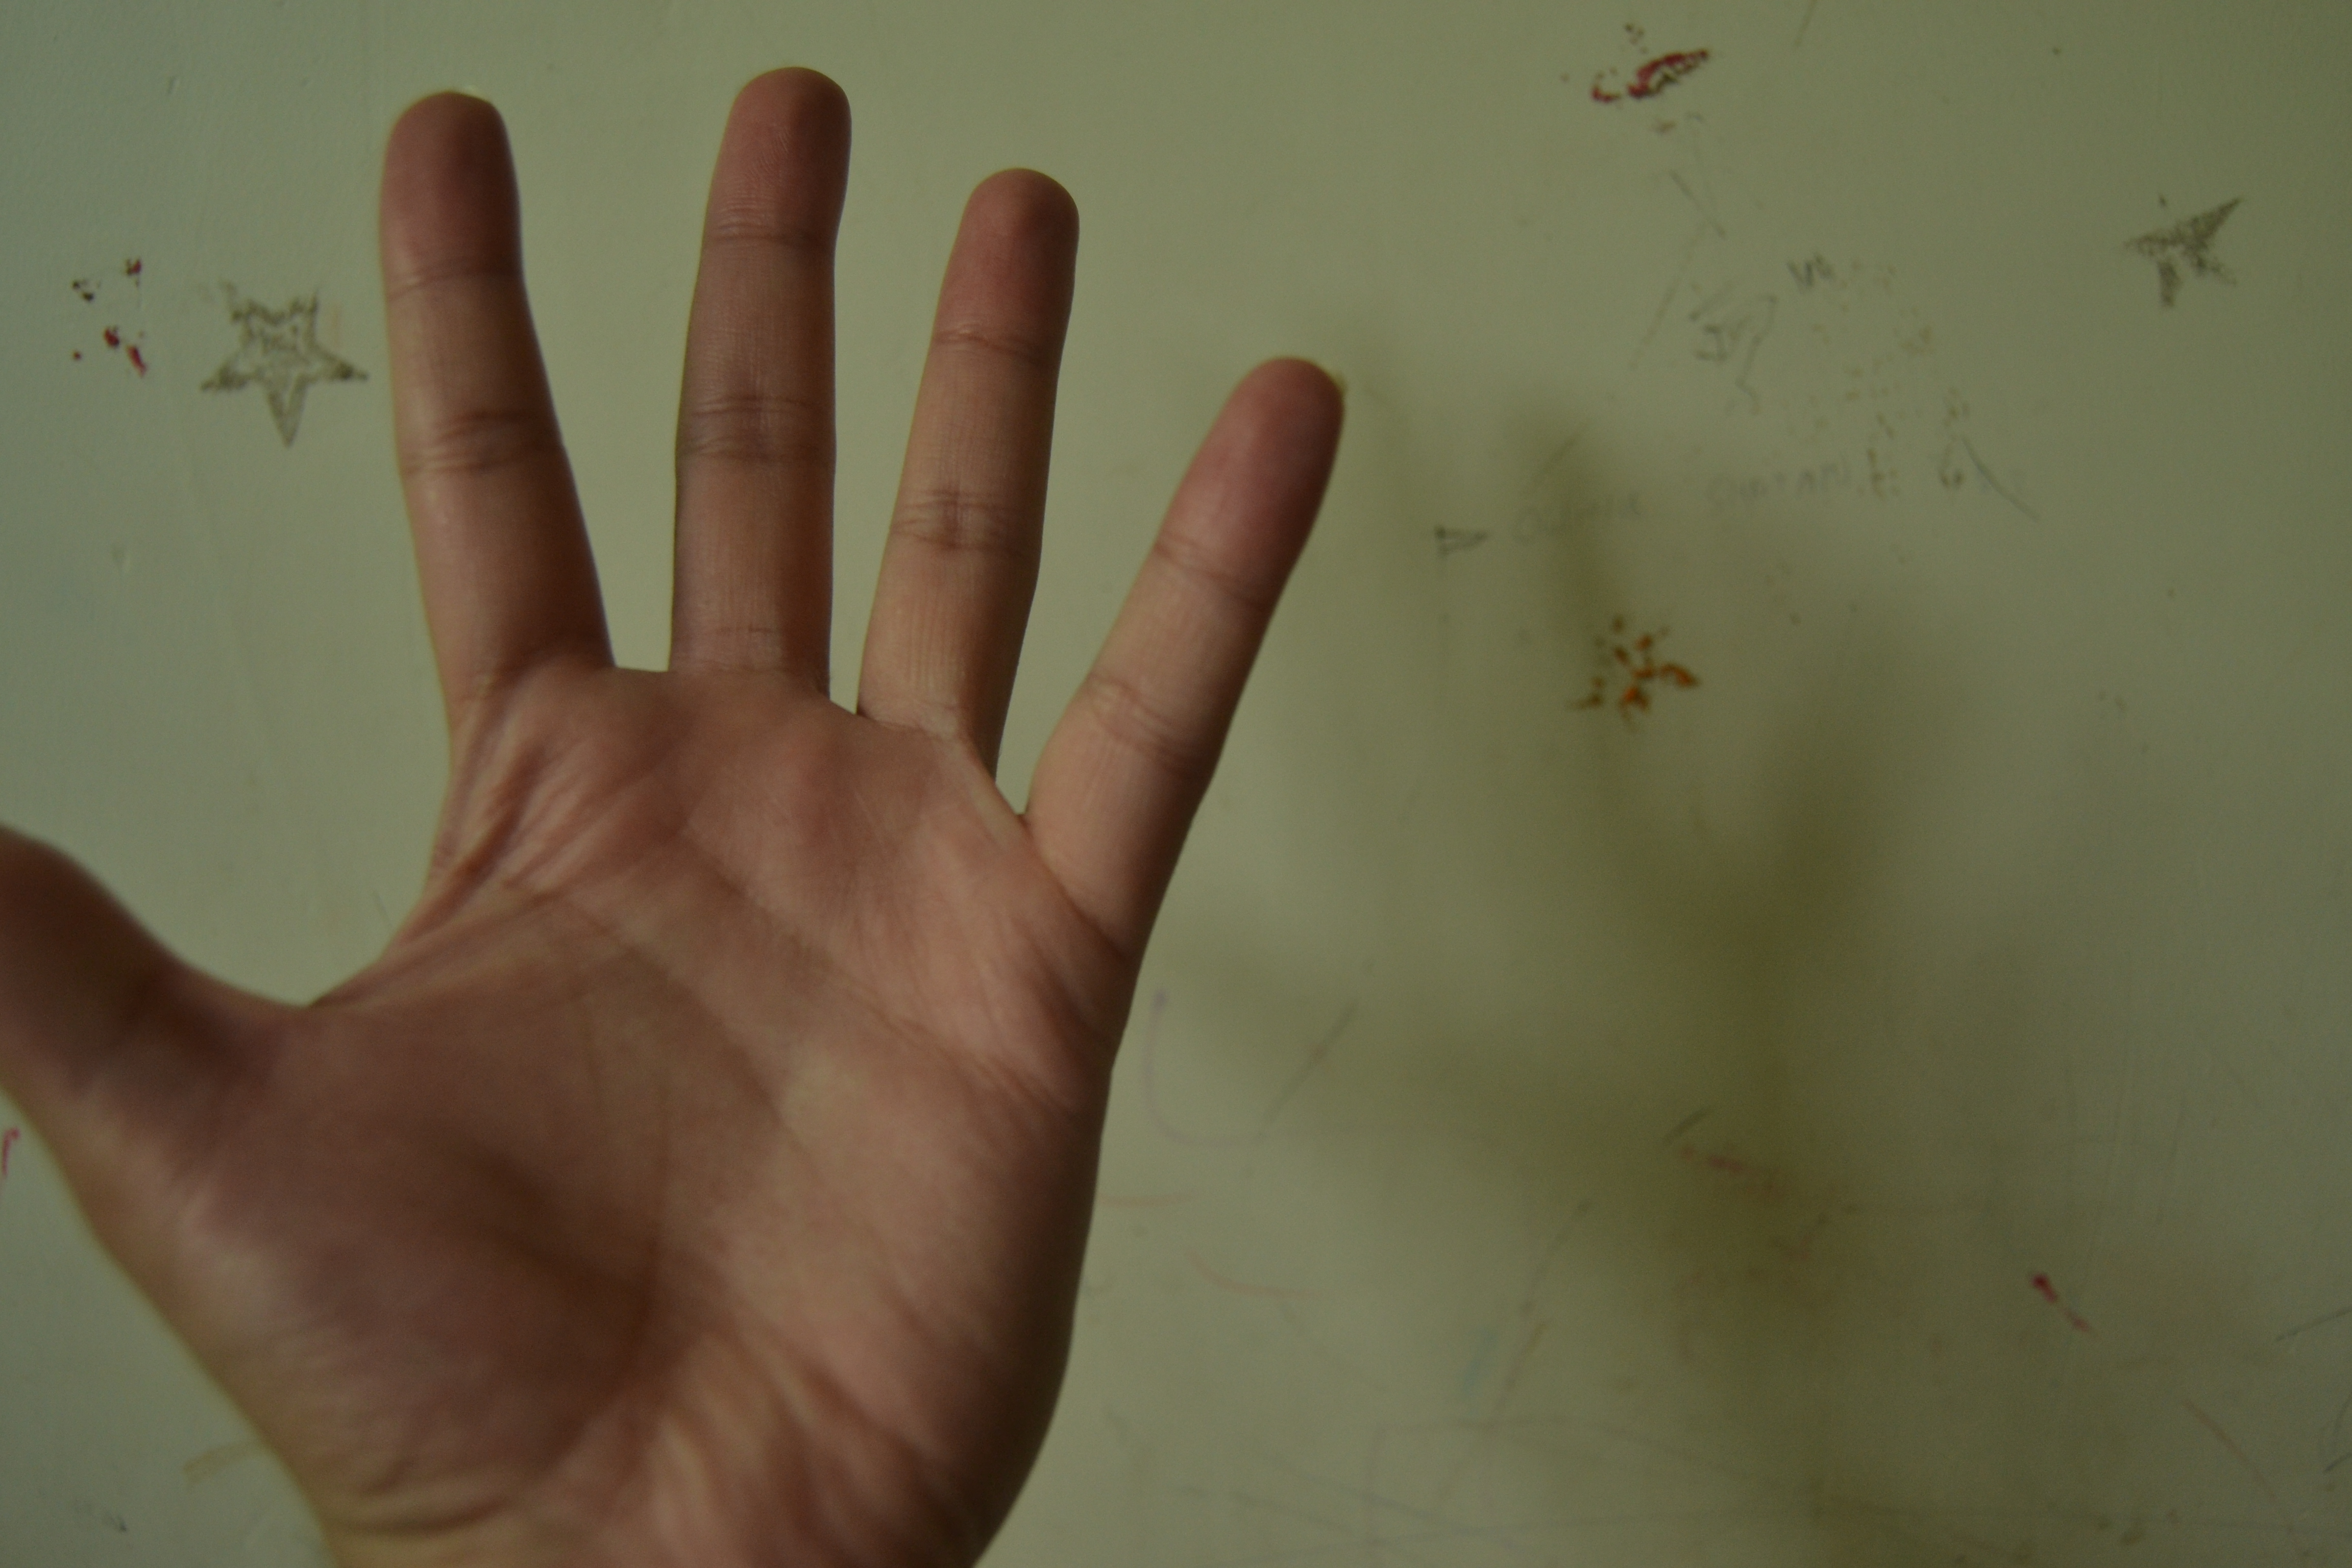move: (24, 24, 1358, 1514)
